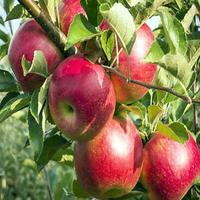apple: (49, 50, 121, 144), (83, 113, 144, 194), (146, 116, 200, 199), (7, 16, 76, 78)
